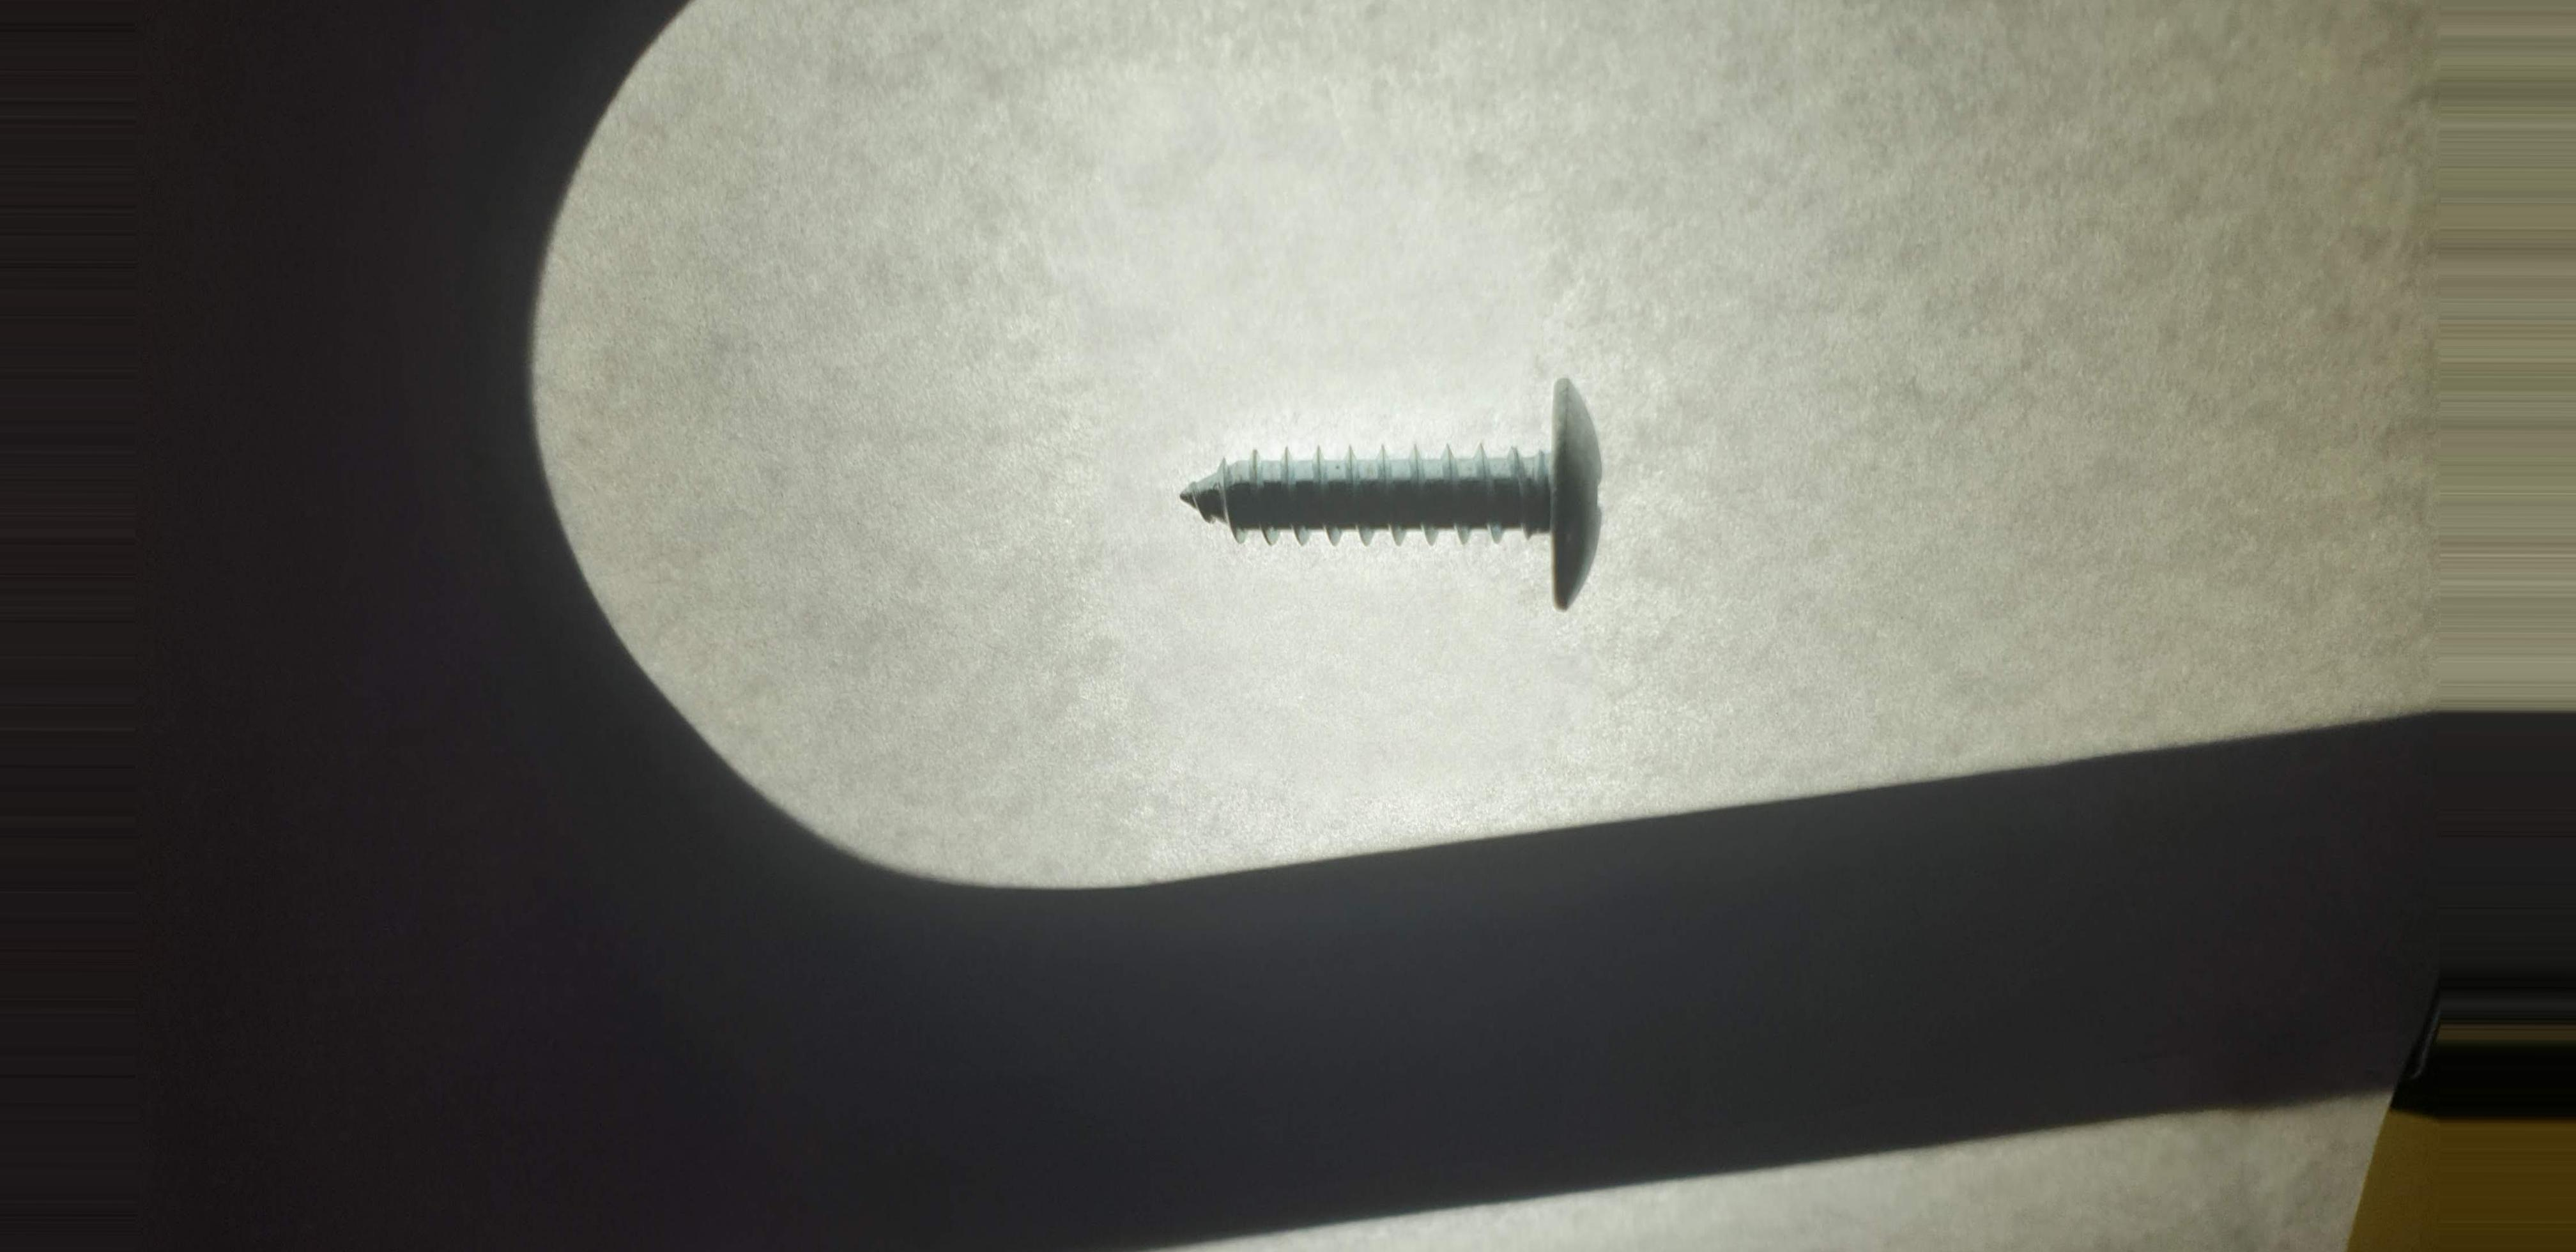S002: (1134, 343, 1690, 641)
